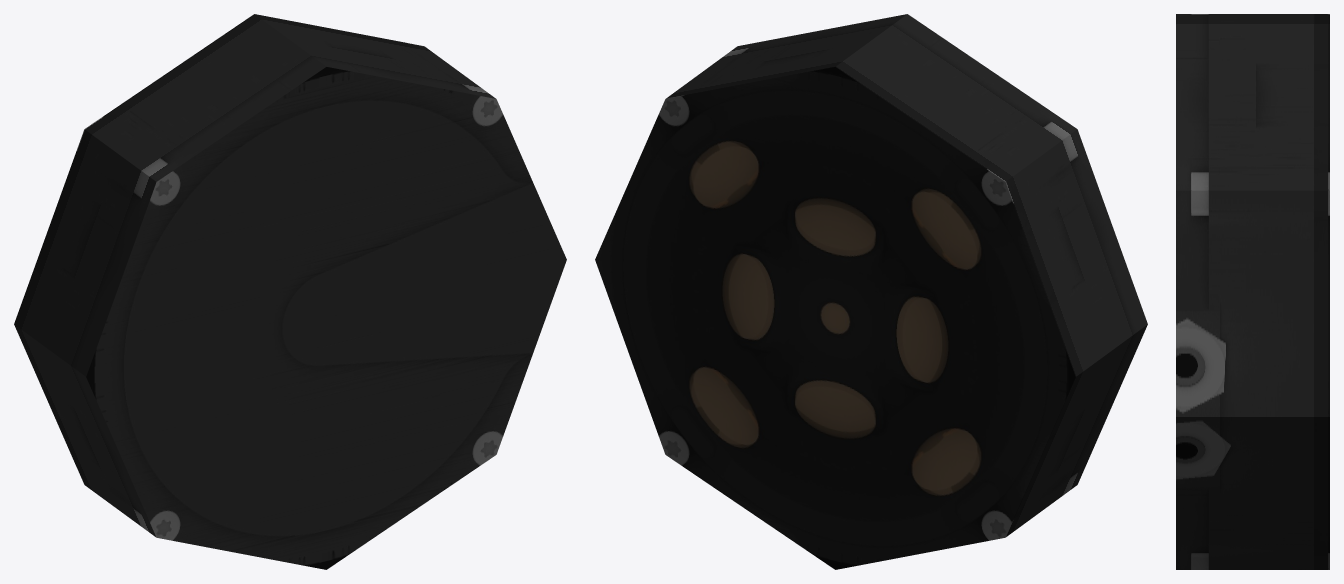
The model's file is docking_socket.obj.
3 views of the same model, side by side, from view 1: azimuth 30°, elevation 25°; view 2: azimuth 150°, elevation 25°; view 3: azimuth 270°, elevation 25° (orthographic). The views are drawn at different scales.
Size of the model in its own units: 0.0816 by 0.0816 by 0.0212.
